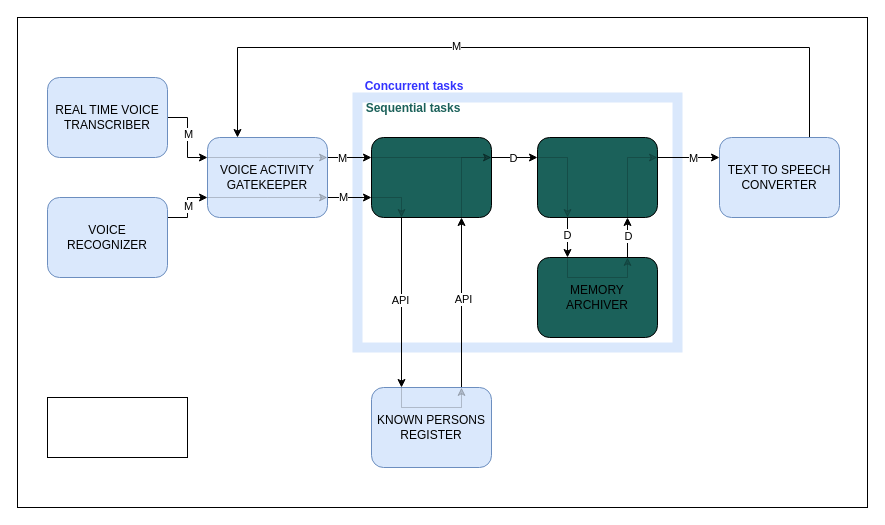
The diagram is 885 pixels wide and 525 high, and some of its shapes have lost their labels. The shapes that lost their labels are listed below. From the top down, each one's centre as x and y in pixels, then its label:
At pixel 431 177: "TRANSCRIPTION FORMATER".
At pixel 597 177: "LLM RESPONDER".
At pixel 117 427: "M: Messagepassing API: API calls D: Dependency injection".
